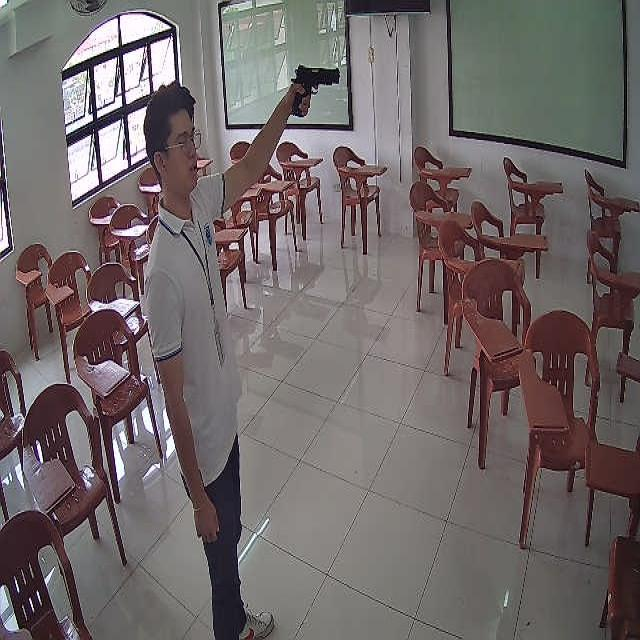pistol: (291, 64, 340, 116)
